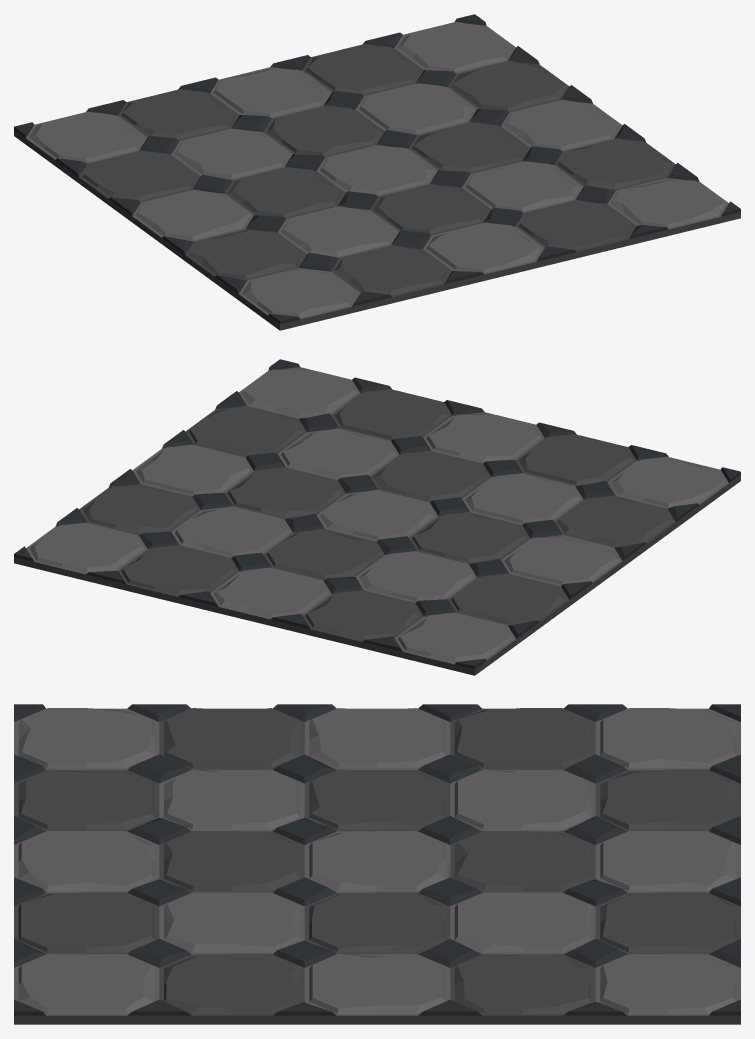
File: SM_Env_Tiles_Ornate_01.glb
3 renders of one model, top to bottom at view 1: azimuth 30°, elevation 25°; view 2: azimuth 150°, elevation 25°; view 3: azimuth 270°, elevation 25°, orthographic. The views are drawn at different scales.
Parts seen in each view (by area): view 1: SM_Env_Tiles_Ornate_01; view 2: SM_Env_Tiles_Ornate_01; view 3: SM_Env_Tiles_Ornate_01.
Part boxes in pixels (bbox=[...]): SM_Env_Tiles_Ornate_01: bbox=[14, 14, 740, 330]; SM_Env_Tiles_Ornate_01: bbox=[14, 359, 740, 675]; SM_Env_Tiles_Ornate_01: bbox=[14, 704, 740, 1024].
Size of the model in its own units: 0.05 by 0.000972 by 0.05.
Materials: 1 (1 with a texture image).
